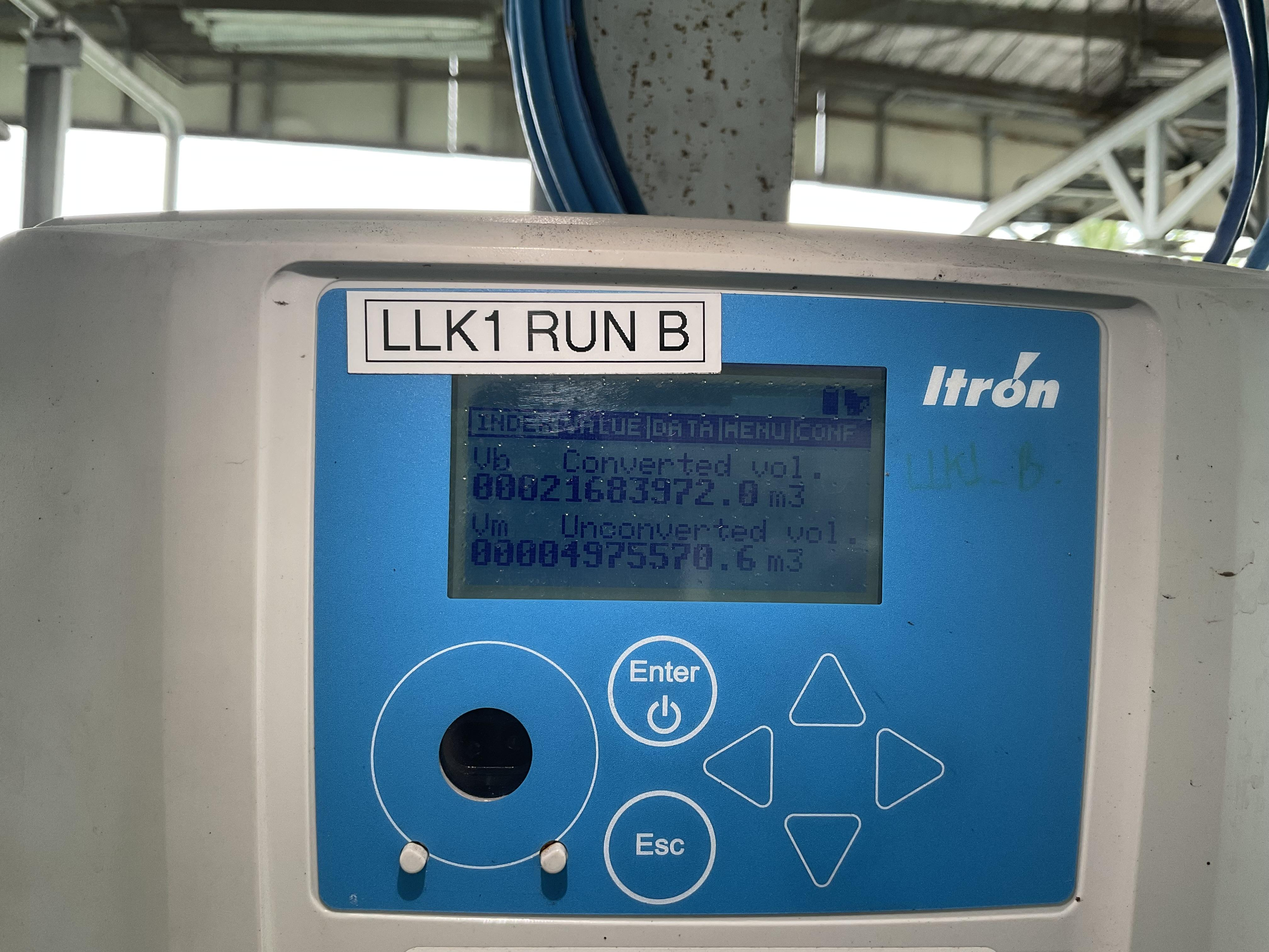digital_screen: (449, 359, 886, 606)
